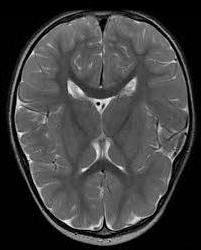Normal_Brain: (1, 1, 201, 241)
